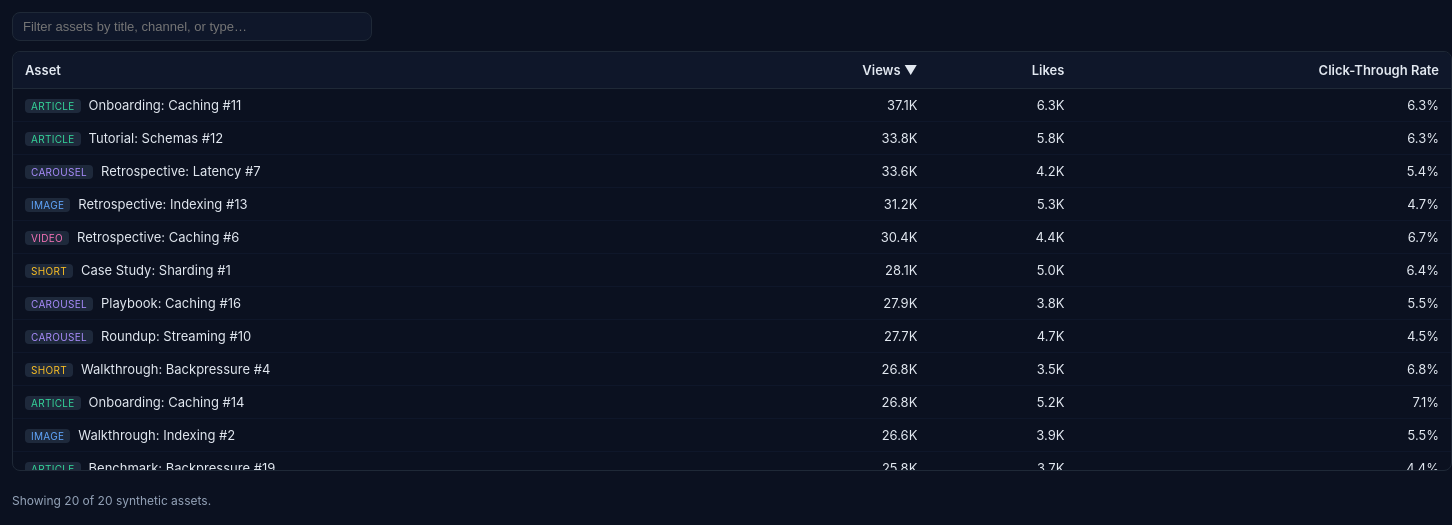
Test: MetricsTable › filters rows by the search query
The image size is (1452, 525).
In the search field labelled "Filter assets": [192, 26] box [12,12,372,41], type "zzz-no-match-zzz"
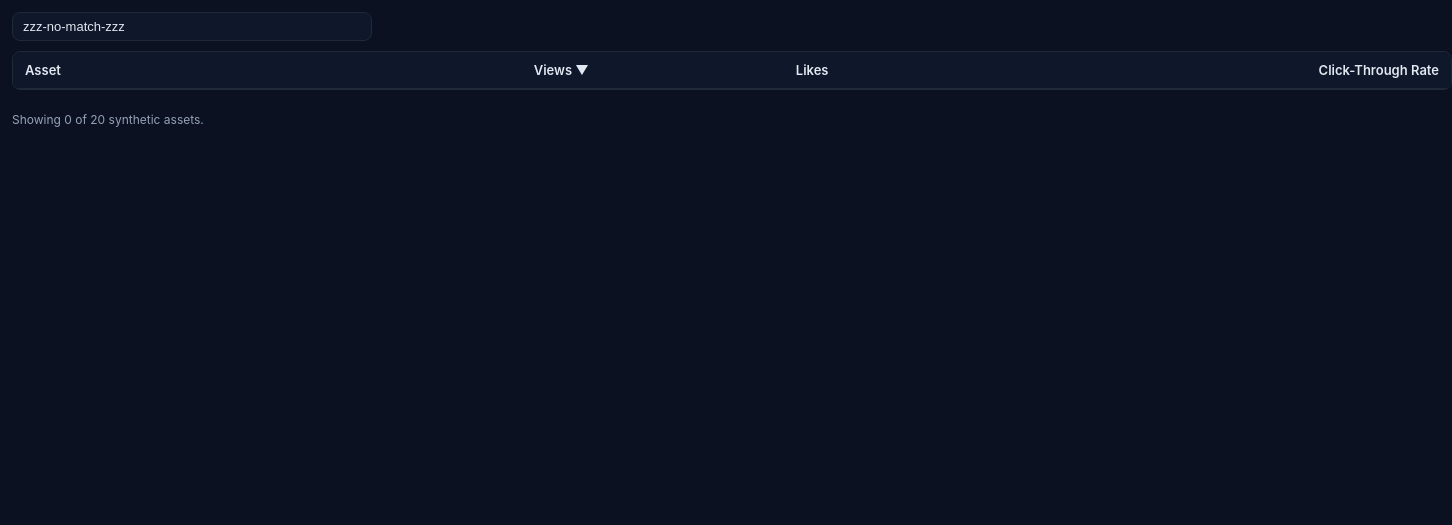
Result: no the row "article Onboarding: Caching #11 37.1K 6.3K 6.3%" are shown
